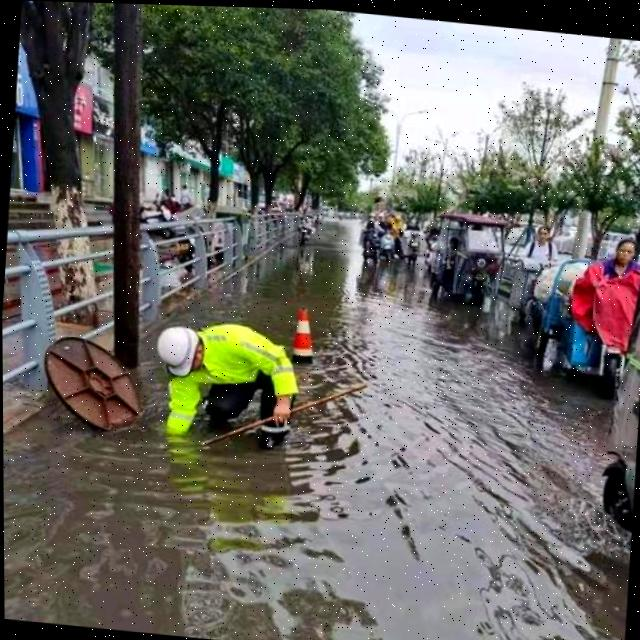civilian: (587, 226, 640, 364), (520, 215, 561, 286)
rescuer: (138, 296, 325, 469)
